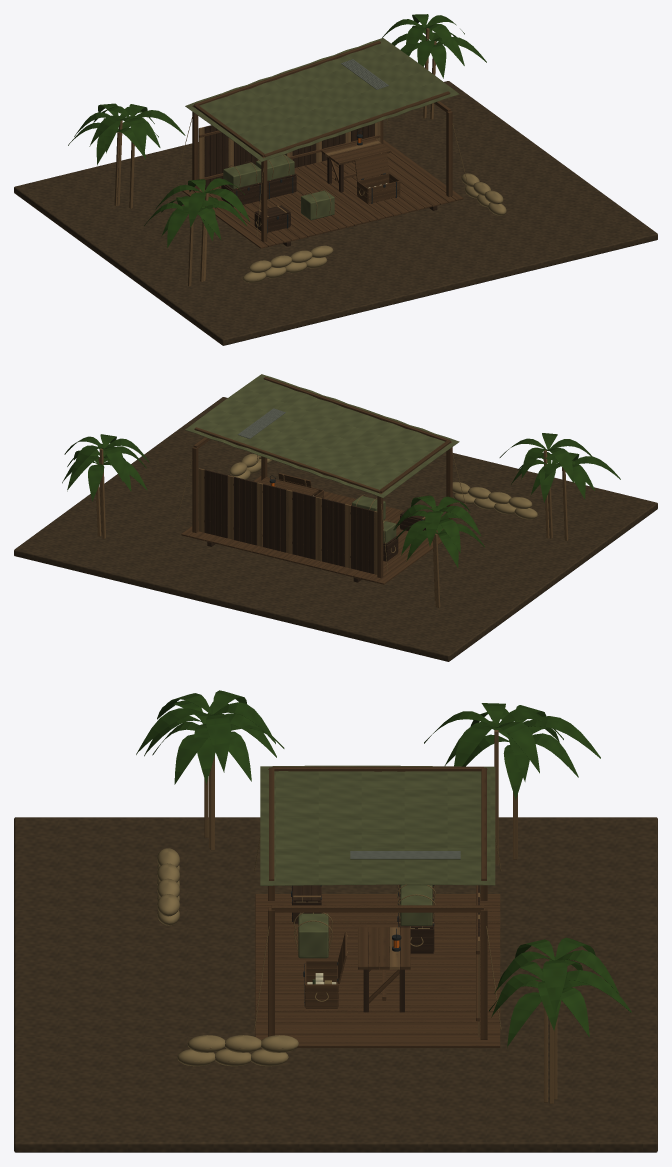
Rendered from C1_SupplyOutpost.fbx.
The picture shows the model from 3 angles, top to bottom: view 1: azimuth 30°, elevation 25°; view 2: azimuth 150°, elevation 25°; view 3: azimuth 270°, elevation 25°; orthographic projection. The views are drawn at different scales.
Visible parts, largest first — view 1: Earth diorama base, Sagging canvas roof, Wrapped bale.004, Shed roof rafter.001, Shed roof rafter, Wrapped bale.002, Wrapped bale.003, Raised floor plank.014, Timber roof post.002, Raised floor plank.025, Timber roof post, Raised floor plank.015 (+4 smaller); view 2: Earth diorama base, Sagging canvas roof, Shed roof rafter, Shed roof rafter.001, Timber roof post.003, Timber roof post.001, Raised floor plank, Wall board.059, Wall board.060, Wall board.066, Wall board.067, Wall board.073 (+12 smaller); view 3: Earth diorama base, Sagging canvas roof, Long eave rail.001, Raised floor plank.025, Raised floor plank.023, Raised floor plank.024, Wrapped bale.004, Raised floor plank.019, Raised floor plank.022, Raised floor plank.021, Raised floor plank.020, Raised floor plank.018 (+35 smaller).
Boxes of the visible parts, x1,y1,x2,y2 form: Earth diorama base: (14, 81, 657, 345); Sagging canvas roof: (185, 38, 459, 161); Wrapped bale.004: (301, 190, 334, 220); Shed roof rafter.001: (194, 40, 380, 105); Shed roof rafter: (264, 91, 450, 157); Wrapped bale.002: (223, 162, 261, 189); Wrapped bale.003: (256, 154, 294, 180); Raised floor plank.014: (297, 165, 377, 221); Timber roof post.002: (446, 111, 452, 196); Raised floor plank.025: (383, 140, 463, 200); Timber roof post: (261, 156, 267, 242); Raised floor plank.015: (305, 164, 385, 219); Earth diorama base: (14, 397, 657, 661); Sagging canvas roof: (185, 374, 459, 497); Shed roof rafter: (263, 376, 450, 441); Shed roof rafter.001: (194, 427, 380, 493); Timber roof post.003: (192, 447, 198, 532); Timber roof post.001: (377, 492, 383, 577); Raised floor plank: (376, 536, 441, 584); Wall board.059: (356, 507, 362, 570); Wall board.060: (350, 505, 356, 569); Wall board.066: (315, 497, 321, 560); Wall board.067: (309, 495, 315, 559); Wall board.073: (274, 487, 280, 550); Earth diorama base: (14, 817, 657, 1152); Sagging canvas roof: (260, 765, 495, 885); Long eave rail.001: (271, 905, 483, 912); Raised floor plank.025: (261, 1040, 500, 1047); Raised floor plank.023: (255, 1028, 500, 1034); Raised floor plank.024: (255, 1034, 500, 1040); Wrapped bale.004: (298, 913, 328, 958); Raised floor plank.019: (255, 1005, 500, 1011); Raised floor plank.022: (255, 1023, 500, 1028); Raised floor plank.021: (255, 1017, 500, 1022); Raised floor plank.020: (255, 1011, 500, 1016); Raised floor plank.018: (255, 999, 497, 1005).
Size of the model in its own units: 1225 by 310 by 1000.
Materials: 13 (13 with a texture image).
